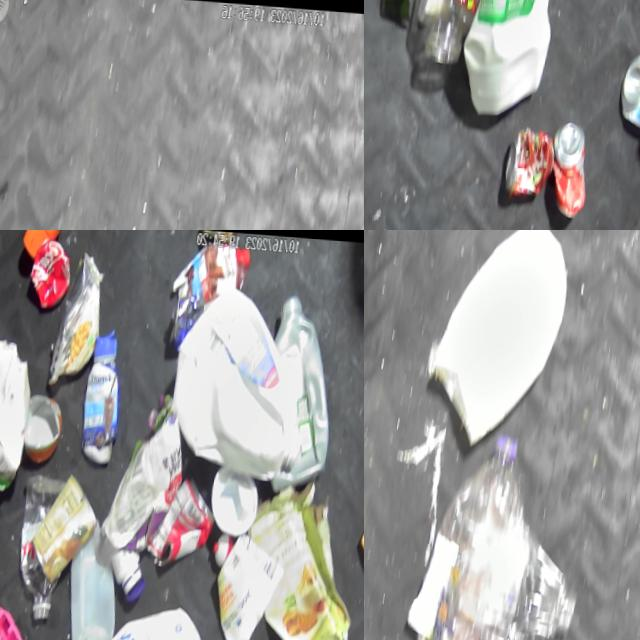can: (29, 468, 113, 581), (147, 471, 224, 575), (546, 111, 601, 219), (509, 104, 567, 197), (24, 230, 80, 313), (17, 383, 73, 466), (620, 46, 640, 133)
milk_jug: (421, 230, 580, 445), (165, 276, 316, 469), (459, 0, 574, 114), (63, 512, 133, 640), (0, 325, 42, 482), (98, 593, 226, 640)
non_white_jug: (245, 288, 353, 504)
plastic_bottle: (406, 422, 548, 640), (8, 471, 72, 627), (511, 526, 595, 640)
